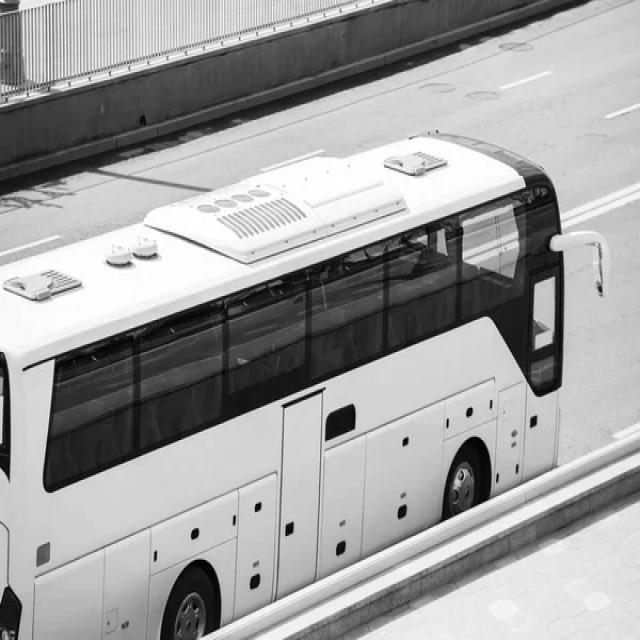Bus: (0, 134, 611, 640)
